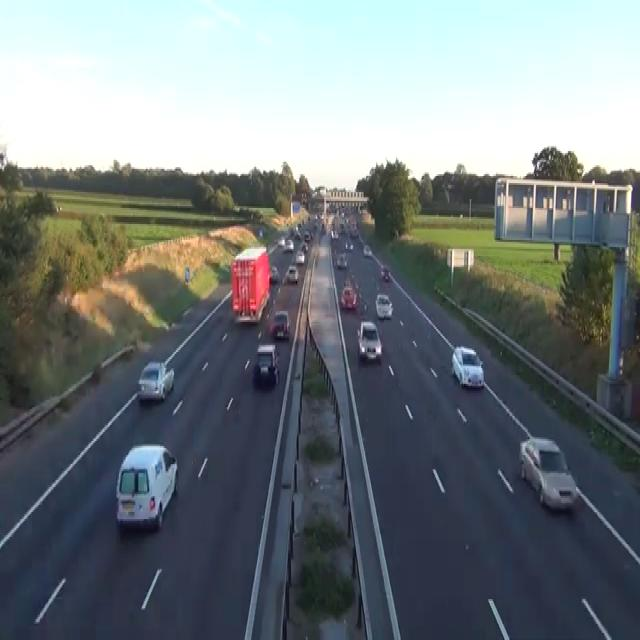Car: (115, 442, 178, 532), (519, 436, 577, 512), (137, 359, 174, 402), (451, 345, 484, 387), (253, 343, 279, 386), (357, 320, 382, 361), (270, 310, 290, 340), (375, 292, 393, 318), (339, 286, 357, 310), (286, 265, 298, 283), (269, 265, 279, 283), (336, 252, 347, 268), (380, 265, 390, 281), (282, 238, 293, 252), (343, 274, 355, 286), (0, 151, 6, 171), (303, 229, 312, 242), (363, 244, 372, 256), (295, 251, 304, 263), (349, 224, 358, 236), (52, 201, 62, 211), (344, 240, 353, 251), (300, 192, 307, 204), (294, 228, 301, 240), (277, 237, 285, 246), (339, 222, 345, 233), (330, 230, 338, 238), (300, 242, 308, 250), (343, 278, 350, 286), (258, 228, 263, 238)
Truck: (230, 246, 270, 324)
